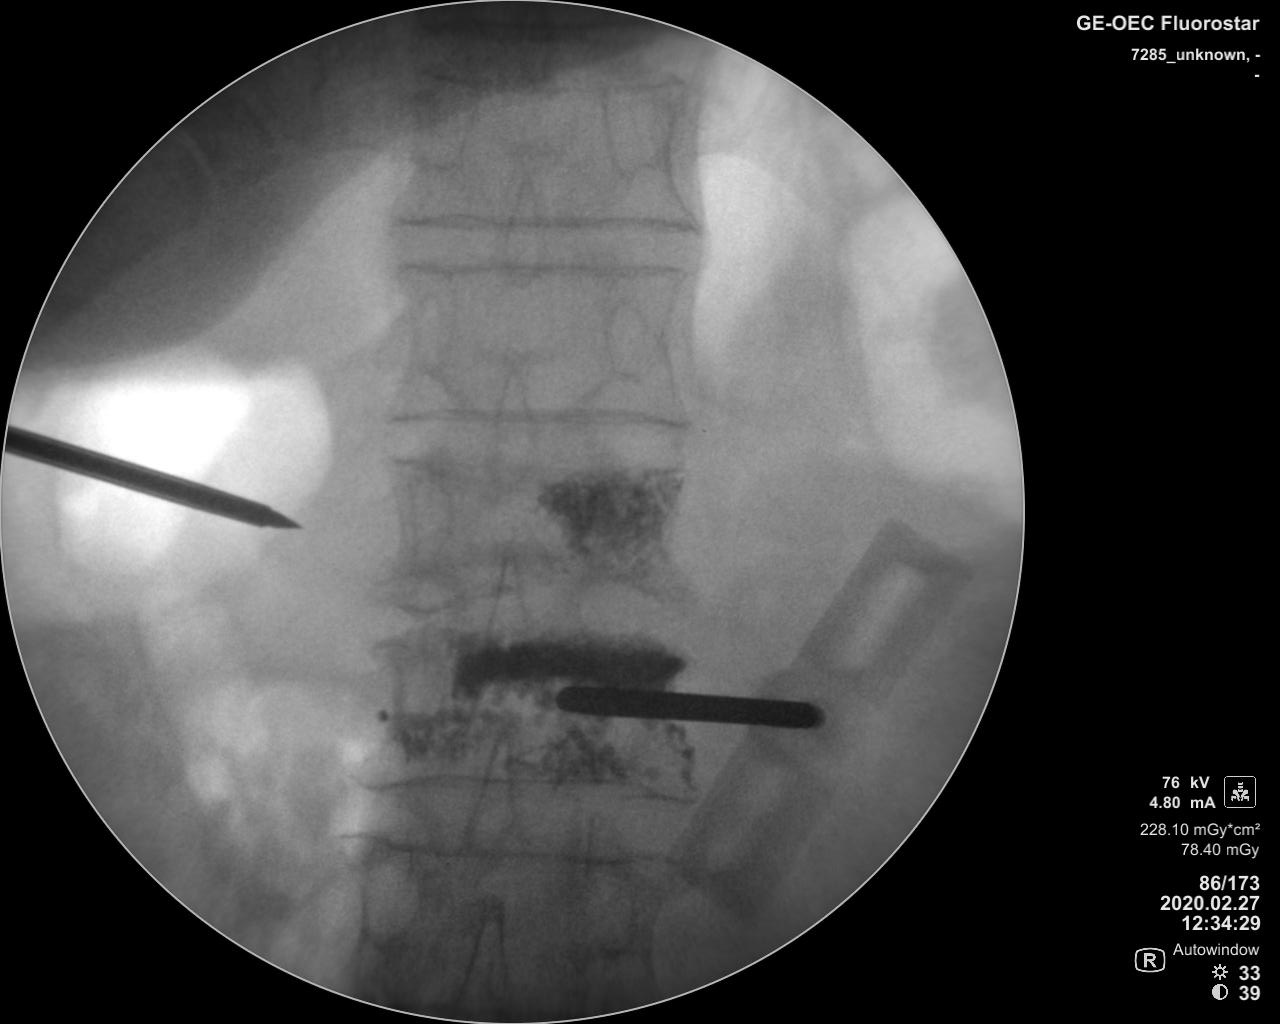eyes: (603, 84, 670, 180), (360, 847, 423, 949), (398, 468, 455, 562), (582, 869, 639, 955), (416, 90, 470, 174), (604, 300, 653, 381)
line: (343, 827, 670, 869), (345, 766, 694, 802), (396, 208, 705, 238), (413, 64, 697, 96), (381, 405, 691, 435), (391, 256, 688, 283)
nose: (461, 891, 517, 1020), (467, 730, 517, 861), (488, 543, 529, 699), (498, 166, 546, 292), (493, 359, 536, 488)
